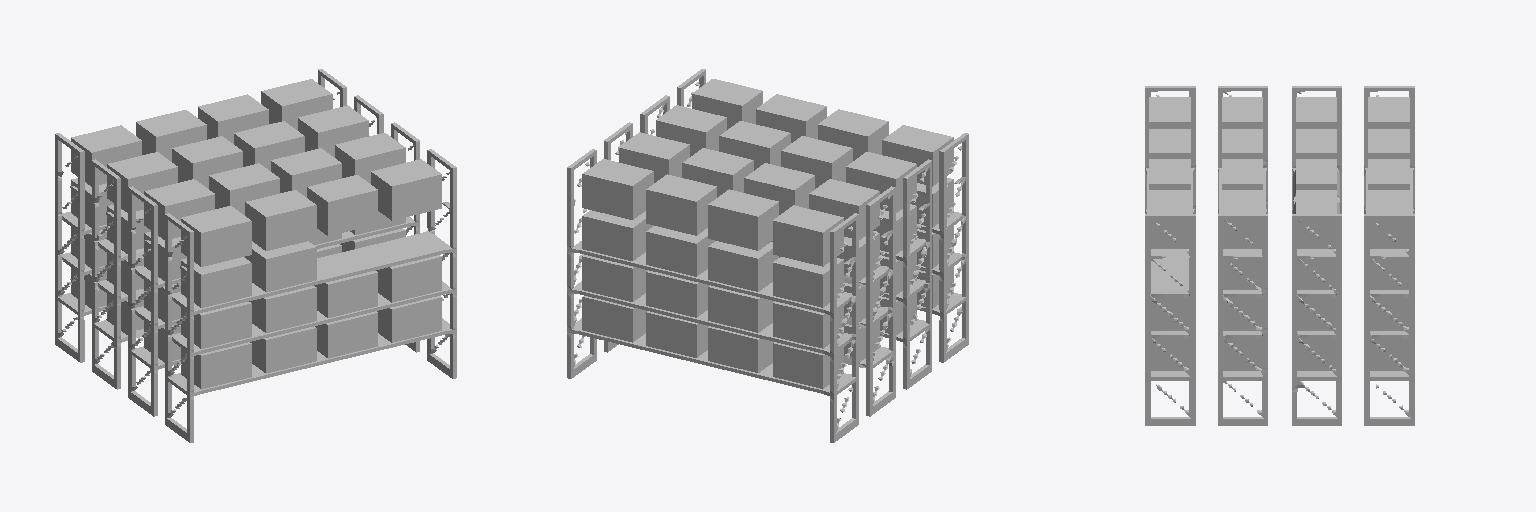
File: remesh.obj
3 renders of one model, left to right at view 1: azimuth 30°, elevation 25°; view 2: azimuth 150°, elevation 25°; view 3: azimuth 270°, elevation 25°, orthographic.
Visible parts, largest first — view 1: Cube.017_Cube.14245; view 2: Cube.017_Cube.14245; view 3: Cube.017_Cube.14245.
Boxes of the visible parts, x1,y1,x2,y2 form: Cube.017_Cube.14245: [55, 69, 456, 442]; Cube.017_Cube.14245: [567, 69, 968, 442]; Cube.017_Cube.14245: [1145, 86, 1414, 425].
Bounding box in the file's own units: 3.48 × 2.63 × 3.05.